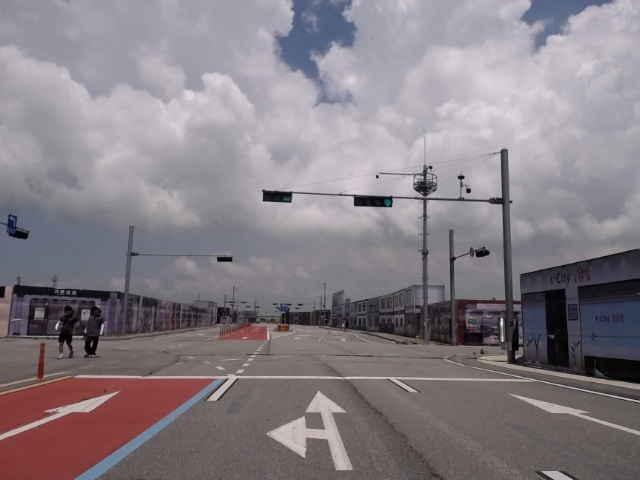straight_green_4: (354, 194, 391, 205)
